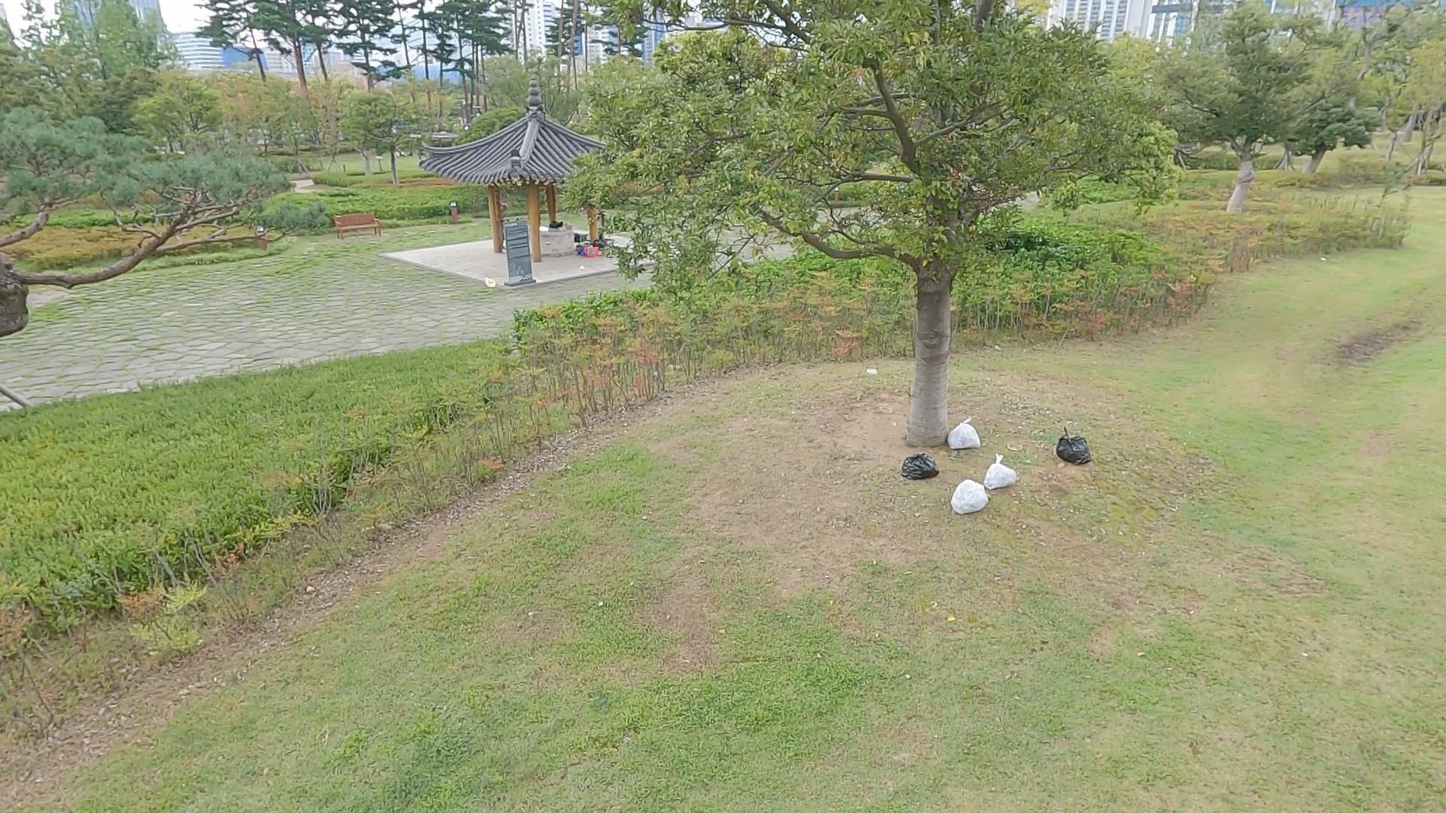trash: (950, 477, 990, 516), (1055, 426, 1094, 466), (981, 453, 1019, 491), (897, 451, 942, 480), (948, 414, 982, 452), (867, 365, 878, 379)
